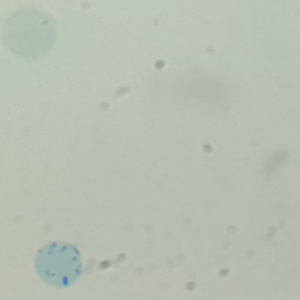aggregate reticulocyte: (33, 238, 84, 289)
punctate reticulocyte: (1, 7, 57, 63)
